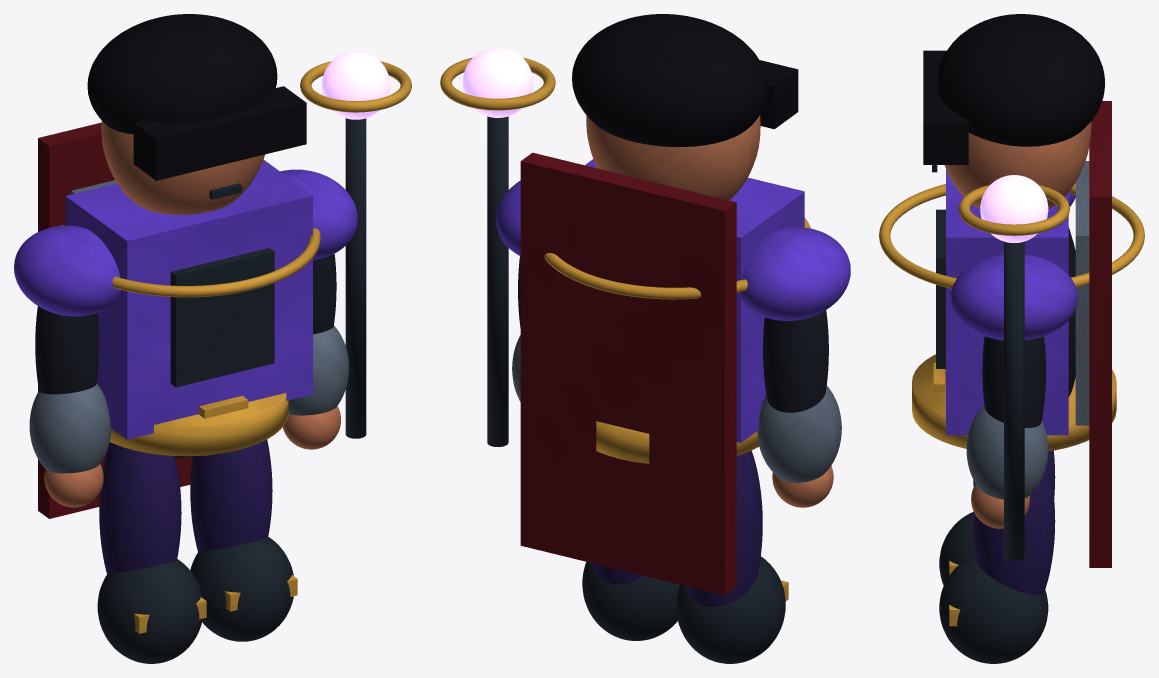
Rendered from Advanced.glb.
3 renders of one model, left to right at view 1: azimuth 30°, elevation 25°; view 2: azimuth 150°, elevation 25°; view 3: azimuth 270°, elevation 25°, orthographic. The views are drawn at different scales.
Parts seen in each view (by area): view 1: ChestPlate, Hair, ChestInset, HairFringe, Leg, Boot, Boot.001, Leg.001, Shoulder, Cape, Staff, Head (+12 smaller); view 2: Cape, Hair, Shoulder, ChestPlate, Head, Staff, Boot, Arm, Gauntlet, Boot.001, Leg, StaffOrb (+7 smaller); view 3: Hair, ChestPlate, Cape, Boot.001, Shoulder.001, Staff, Head, Leg.001, Gauntlet.001, BackArmor, WaistGuard, Arm.001 (+8 smaller).
Boxes of the visible parts, x1,y1,x2,y2 form: ChestPlate: (65, 159, 312, 439); Hair: (87, 14, 277, 134); ChestInset: (170, 248, 274, 387); HairFringe: (133, 86, 306, 180); Leg: (99, 442, 181, 574); Boot: (97, 559, 202, 663); Boot.001: (190, 537, 293, 641); Leg.001: (190, 439, 272, 552); Shoulder: (14, 225, 120, 316); Cape: (38, 122, 192, 518); Staff: (345, 118, 366, 438); Head: (101, 120, 264, 214); Cape: (520, 152, 736, 595); Hair: (572, 14, 767, 146); Shoulder: (739, 227, 850, 320); ChestPlate: (585, 159, 804, 442); Head: (586, 115, 760, 200); Staff: (487, 116, 508, 446); Boot: (676, 556, 785, 663); Arm: (763, 310, 828, 412); Gauntlet: (757, 385, 841, 482); Boot.001: (582, 562, 679, 640); Leg: (686, 450, 762, 606); StaffOrb: (462, 47, 533, 117); Hair: (937, 14, 1105, 146); ChestPlate: (946, 169, 1068, 435); Cape: (1089, 101, 1111, 567); Boot.001: (939, 555, 1048, 663); Shoulder.001: (950, 254, 1077, 340); Staff: (1004, 241, 1024, 560); Head: (944, 121, 1091, 208); Leg.001: (973, 461, 1055, 595); Gauntlet.001: (966, 405, 1048, 499); BackArmor: (1075, 161, 1089, 425); WaistGuard: (912, 354, 1116, 451); Arm.001: (982, 336, 1045, 427).
Size of the model in its own units: 1.93 by 2.96 by 1.17.
Materials: 12 (9 with a texture image).
